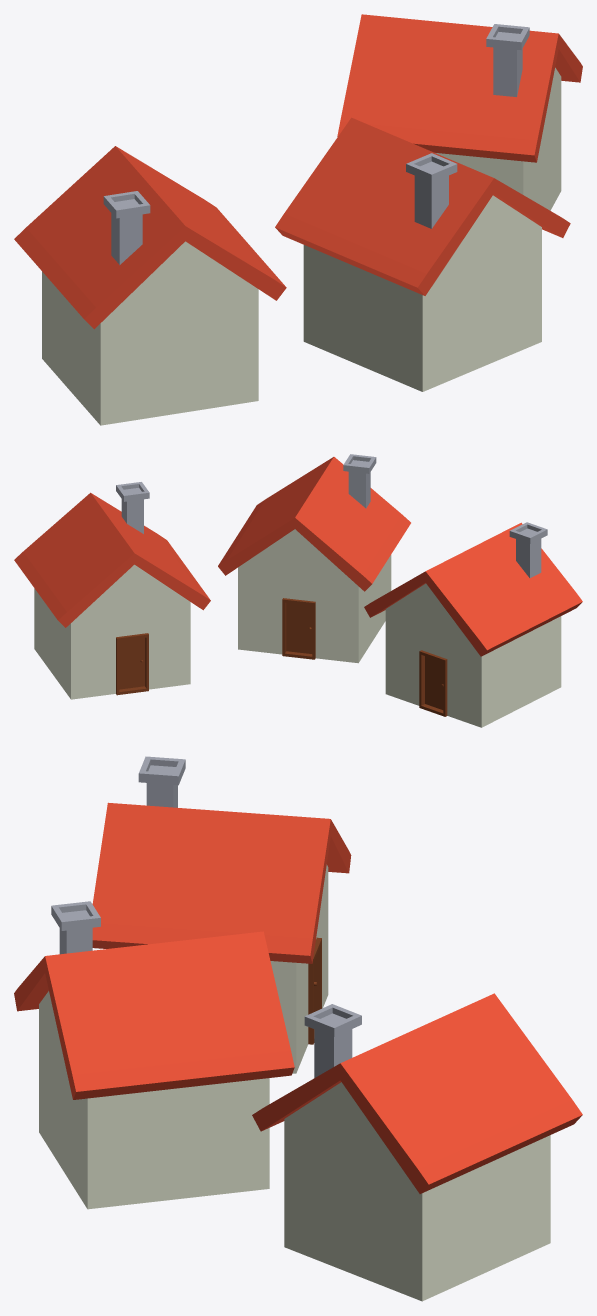
The model's file is village.glb.
3 views of the same model, one above another, from view 1: azimuth 30°, elevation 25°; view 2: azimuth 150°, elevation 25°; view 3: azimuth 270°, elevation 25° (orthographic). The views are drawn at different scales.
Visible parts, largest first — view 1: Cube, Cube.002, Roof.001, Roof, Roof.002, Cube.001, Chimney, Chimney.001, Chimney.002; view 2: Cube.002, Cube.001, Cube, Roof.001, Roof, Roof.002, Door, Door.001, Door.002, Chimney.002, Chimney, Chimney.001; view 3: Cube.001, Roof, Roof.002, Roof.001, Cube, Cube.002, Chimney.001, Chimney, Chimney.002, Door.002.
Boxes of the visible parts, x1,y1,x2,y2 form: Cube: (303, 195, 541, 391); Cube.002: (42, 241, 258, 425); Roof.001: (337, 14, 582, 162); Roof: (275, 117, 570, 295); Roof.002: (14, 146, 286, 329); Cube.001: (435, 67, 561, 210); Chimney: (406, 153, 457, 228); Chimney.001: (486, 24, 529, 96); Chimney.002: (103, 191, 150, 264); Cube.002: (385, 583, 561, 727); Cube.001: (34, 564, 190, 699); Cube: (238, 529, 391, 663); Roof.001: (14, 492, 210, 627); Roof: (218, 457, 410, 591); Roof.002: (364, 522, 582, 656); Door: (282, 598, 315, 659); Door.001: (116, 633, 148, 695); Door.002: (419, 650, 447, 716); Chimney.002: (509, 522, 547, 577); Chimney: (343, 454, 376, 508); Chimney.001: (116, 482, 149, 533); Cube.001: (284, 1082, 550, 1301); Roof: (14, 931, 294, 1099); Roof.002: (92, 802, 351, 963); Roof.001: (252, 993, 582, 1193); Cube: (39, 991, 269, 1209); Cube.002: (270, 864, 328, 1073); Chimney.001: (304, 1004, 361, 1077); Chimney: (51, 901, 100, 954); Chimney.002: (138, 756, 185, 807); Door.002: (308, 937, 321, 1044).
Size of the model in its own units: 8.68 by 2.75 by 6.04.
